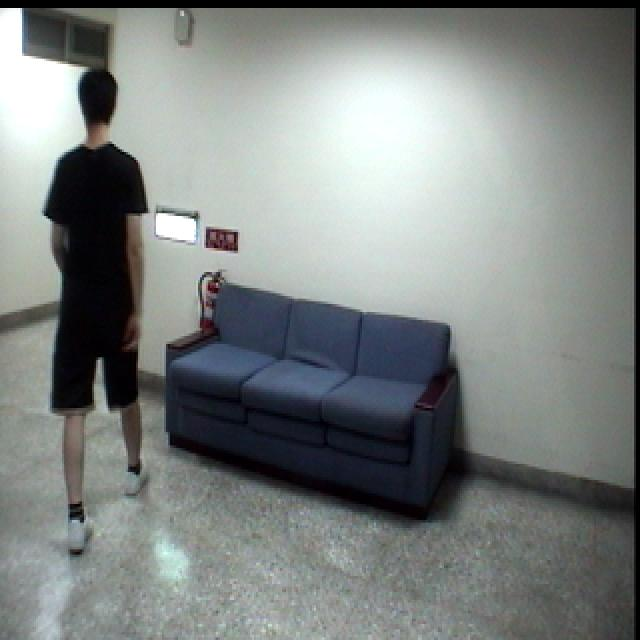stand: (36, 66, 169, 554)
